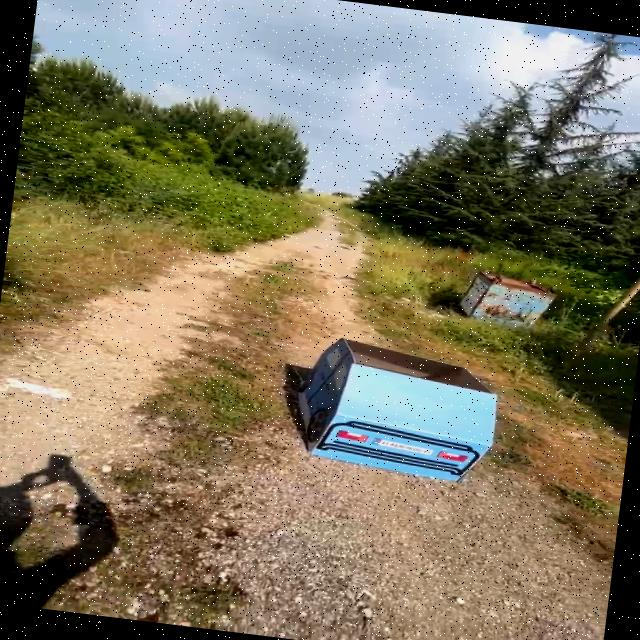blue_car: (267, 313, 520, 503)
